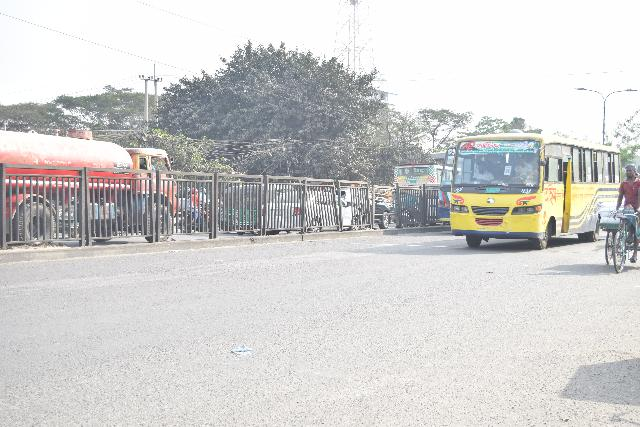bus: (452, 133, 622, 247)
car: (264, 188, 361, 230)
truck: (0, 120, 178, 256)
